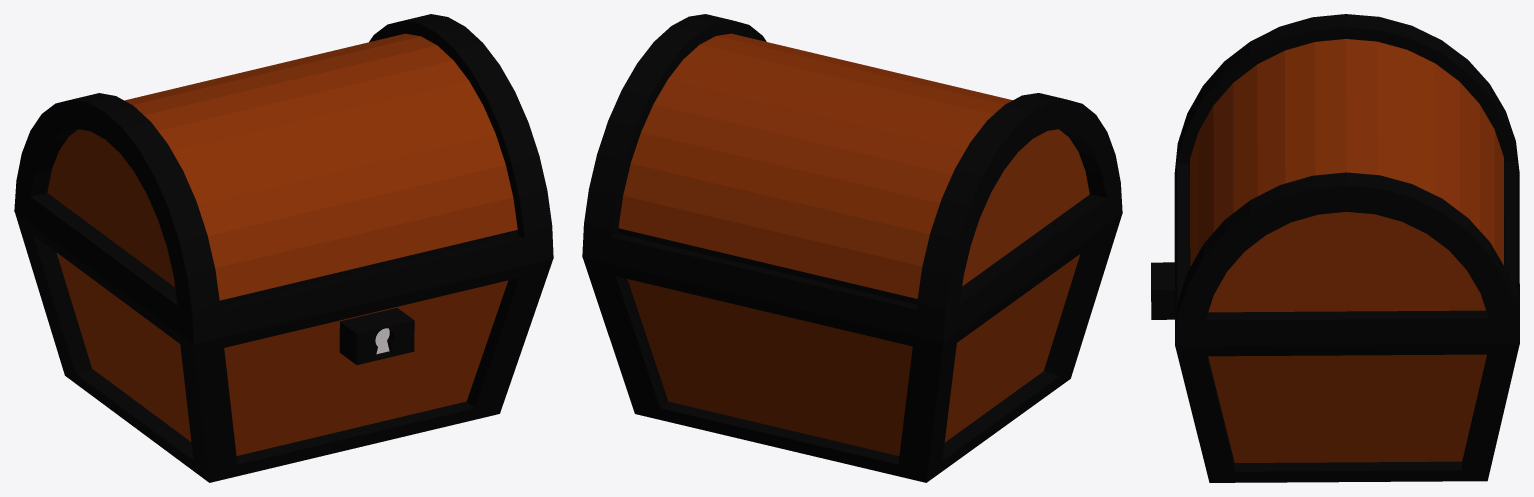
The picture shows the model from 3 angles, left to right: view 1: azimuth 30°, elevation 25°; view 2: azimuth 150°, elevation 25°; view 3: azimuth 270°, elevation 25°; orthographic projection. The views are drawn at different scales.
Parts seen in each view (by area): view 1: Cube.001; view 2: Cube.001; view 3: Cube.001.
Boxes of the visible parts, x1,y1,x2,y2 form: Cube.001: [14, 14, 553, 482]; Cube.001: [582, 14, 1122, 482]; Cube.001: [1151, 14, 1519, 482].
Size of the model in its own units: 42.55 by 36.95 by 39.01.
